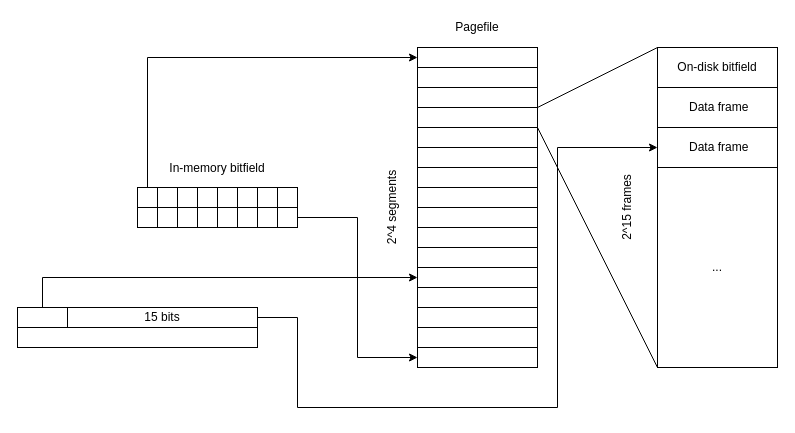
Image size: 795x433. Some labels were removed from this diagram. Each missing label, with the centre of its shape:
"19 bit reference" belongs at (x=137, y=337).
"4 bits" belongs at (x=42, y=317).
